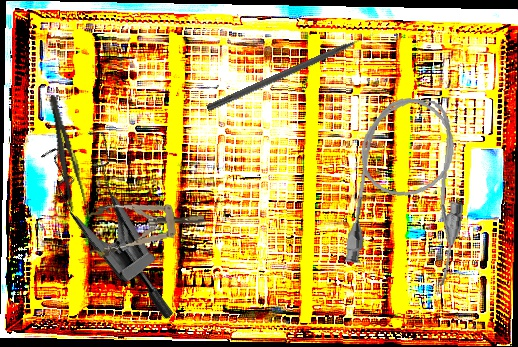Cannula: (343, 92, 476, 287)
Dressing Forceps: (41, 92, 93, 223)
Hook Surgical: (206, 31, 376, 114)
Speculum: (14, 111, 233, 323), (83, 193, 208, 260)
